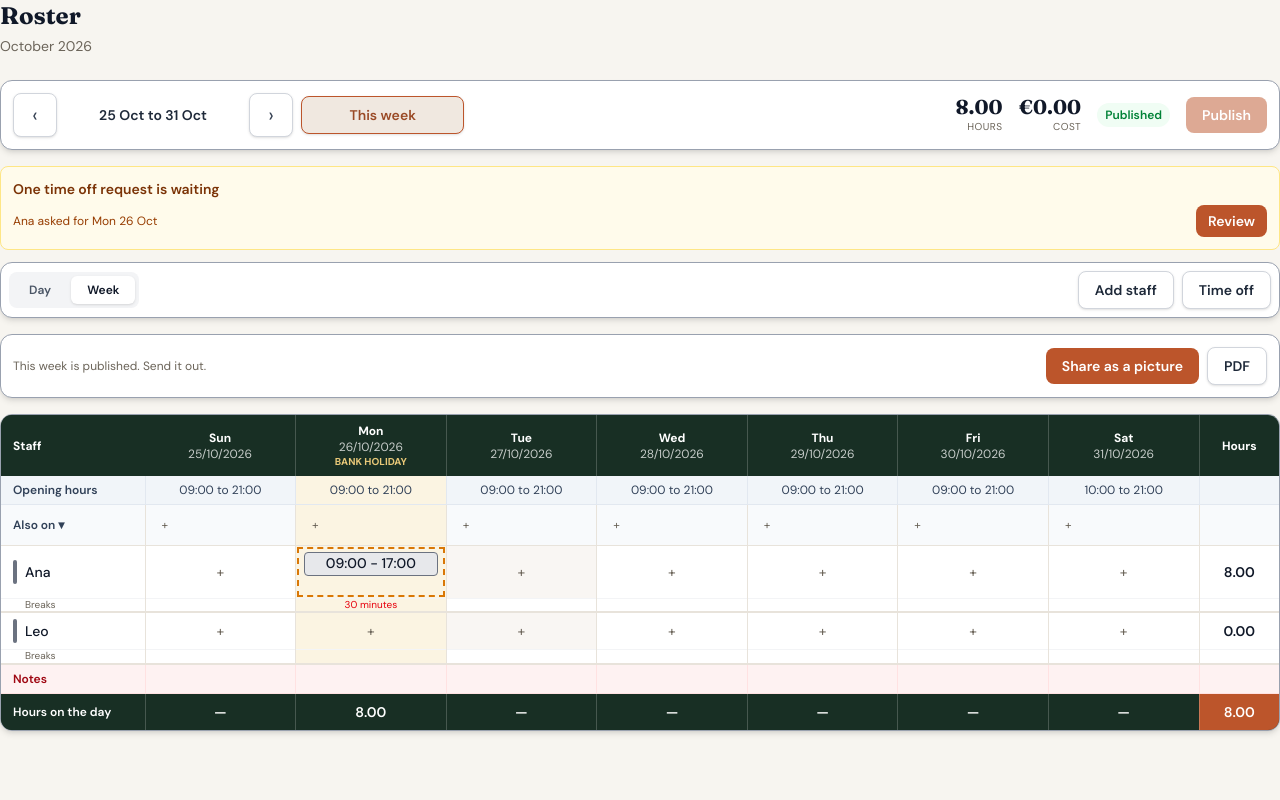
answering time off › says so when the request was already answered or taken back
Click the button "Review" at (1232, 221), box [1196,205,1267,237]
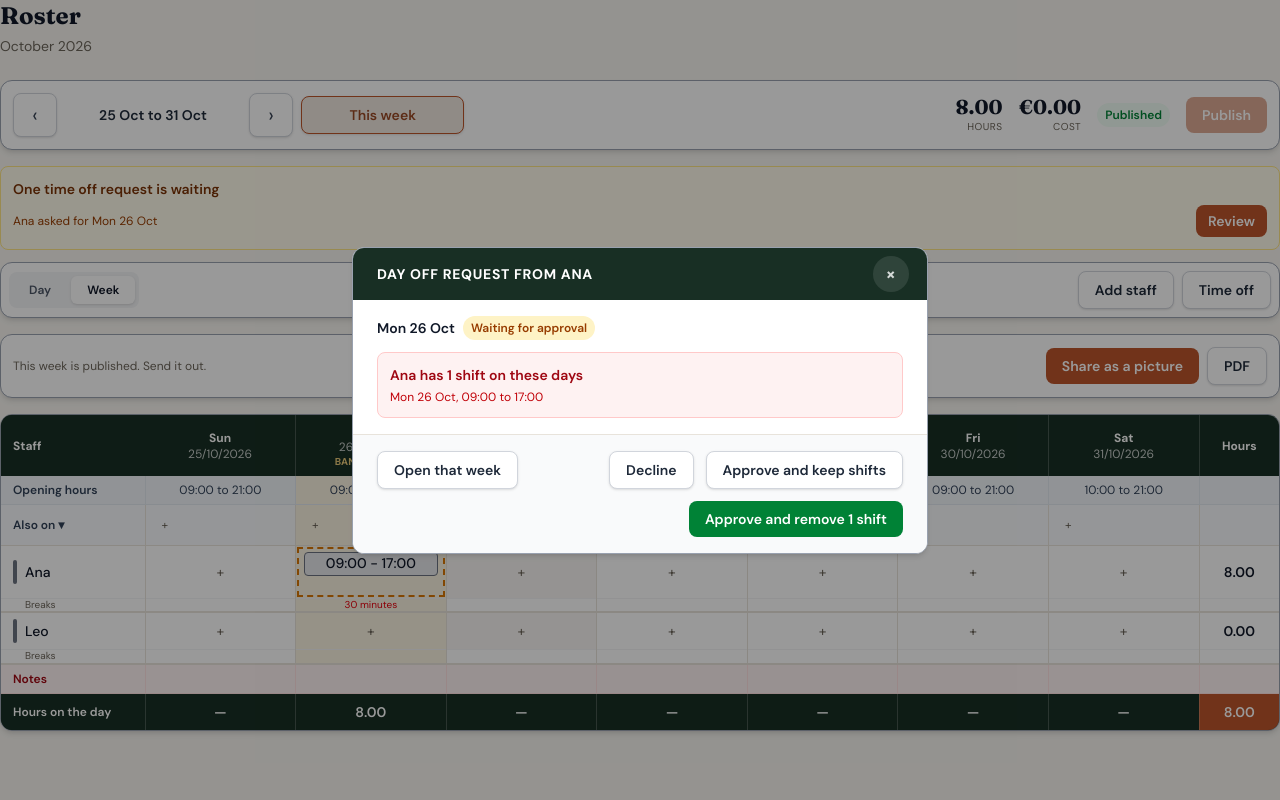
Click the button "Approve and remove 1 shift" at (796, 518), box [689,500,903,536]
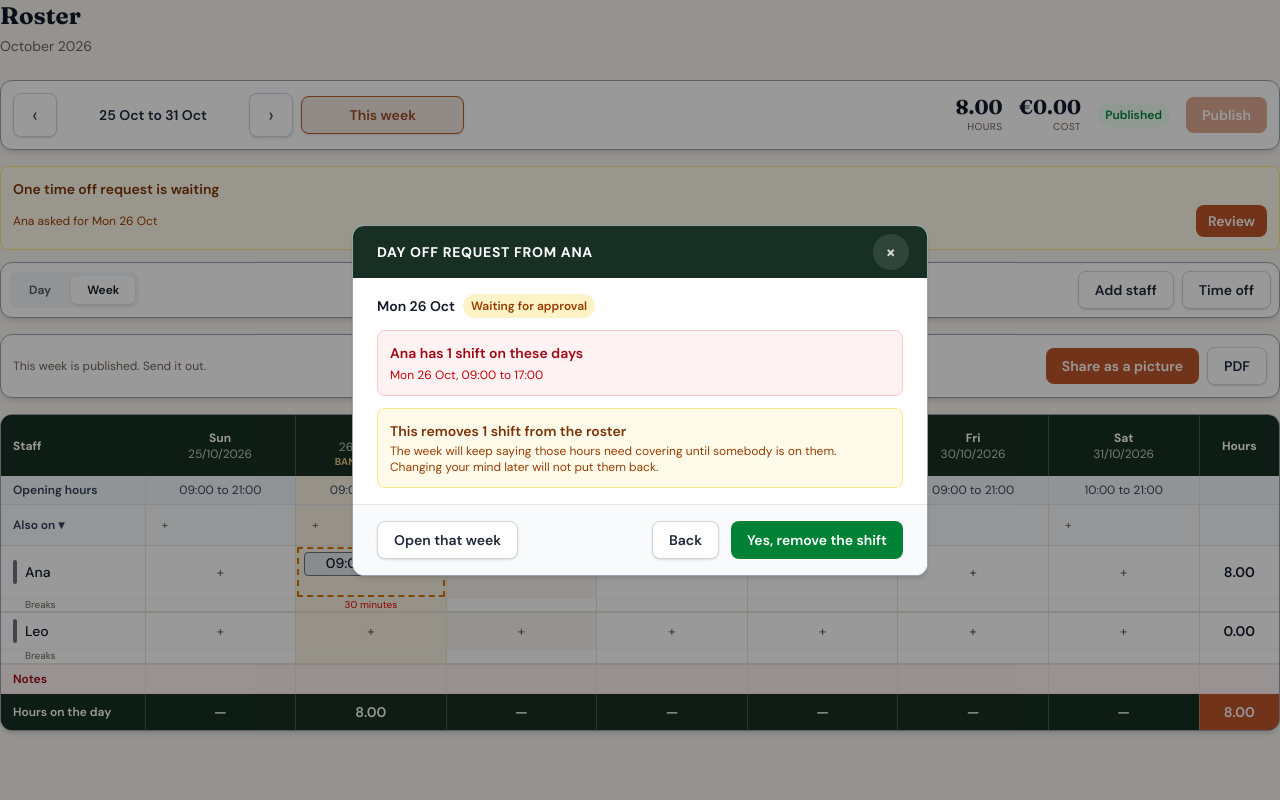
Click the button "Yes, remove the shift" at (817, 540), box [731,520,903,558]
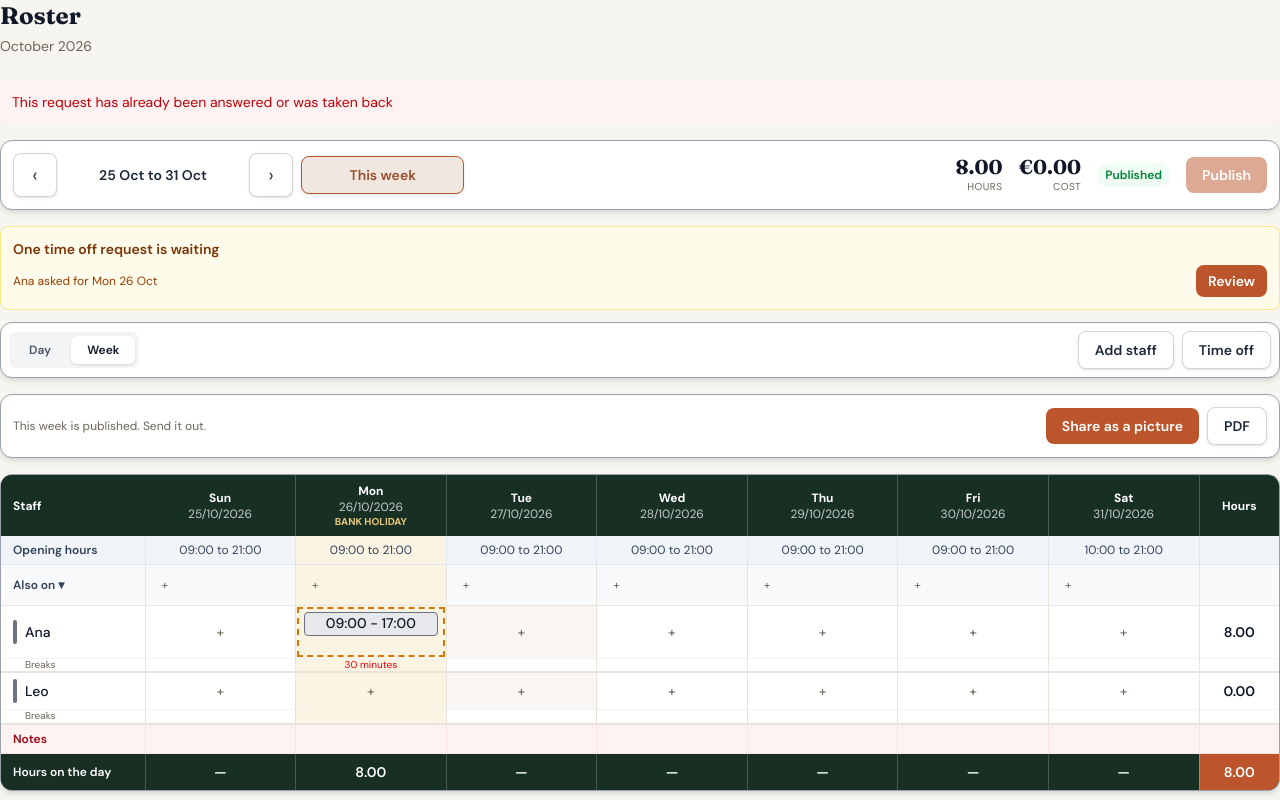
Now the text "This request has already been answered or was taken back" is shown, box [0,80,1279,124]
